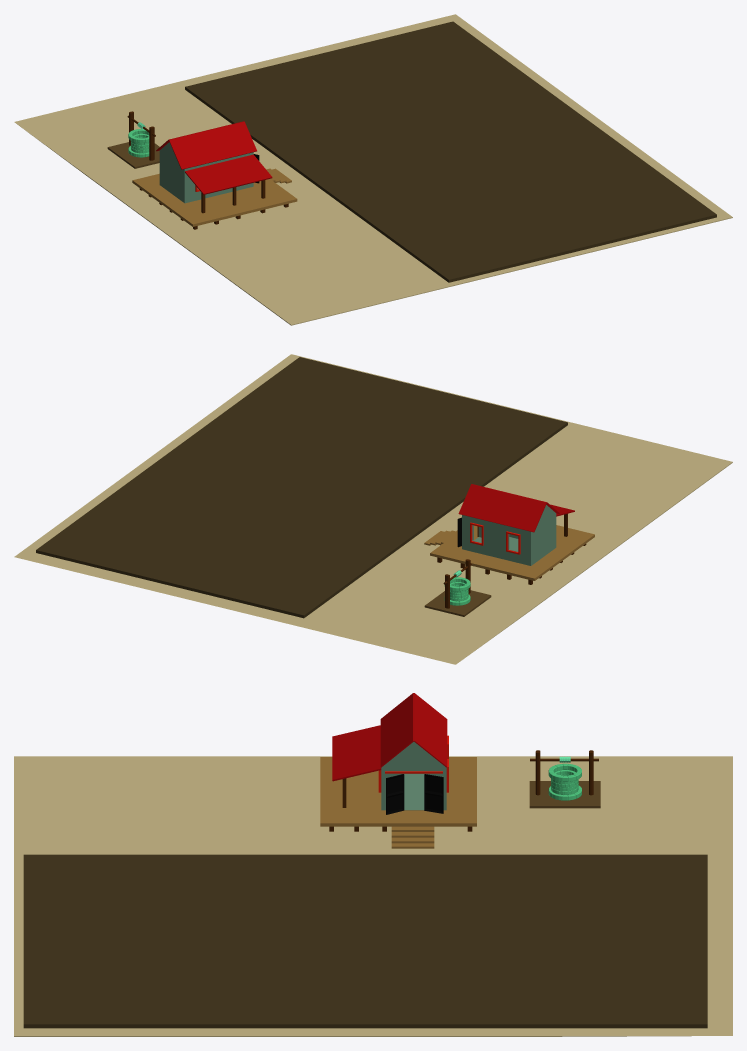
Rendered from farm2.fbx.
3 views of the same model, one above another, from view 1: azimuth 30°, elevation 25°; view 2: azimuth 150°, elevation 25°; view 3: azimuth 270°, elevation 25° (orthographic). The views are drawn at different scales.
Visible parts, largest first — view 1: land, Plane.001, roof, Plane, Cube, well_stage, well; view 2: land, Plane.001, Cube, Plane, roof, well_stage, well; view 3: land, Plane.001, Plane, roof, Cube, door, well_stage, well, well_handle.
Part boxes in pixels (box(x1,y1,x2,y2)): land: box(185, 21, 716, 282); Plane.001: box(14, 14, 732, 325); roof: box(156, 121, 272, 194); Plane: box(132, 168, 297, 226); Cube: box(159, 142, 253, 203); well_stage: box(107, 142, 159, 168); well: box(128, 129, 149, 157); land: box(36, 357, 567, 618); Plane.001: box(14, 354, 732, 664); Cube: box(462, 505, 556, 565); Plane: box(424, 525, 594, 580); roof: box(458, 484, 574, 532); well_stage: box(424, 590, 491, 616); well: box(444, 577, 470, 605); land: box(23, 854, 707, 1028); Plane.001: box(14, 756, 732, 1036); Plane: box(320, 757, 476, 848); roof: box(332, 693, 447, 781); Cube: box(381, 742, 446, 810); door: box(386, 774, 443, 814); well_stage: box(529, 781, 600, 808); well: box(548, 763, 581, 800); well_handle: box(530, 750, 598, 795).
Size of the model in its own units: 10526 by 1485 by 11444.
